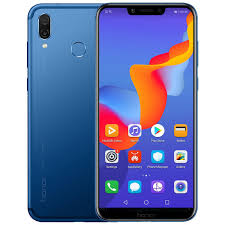huawei: (92, 1, 200, 221), (27, 1, 100, 221)
